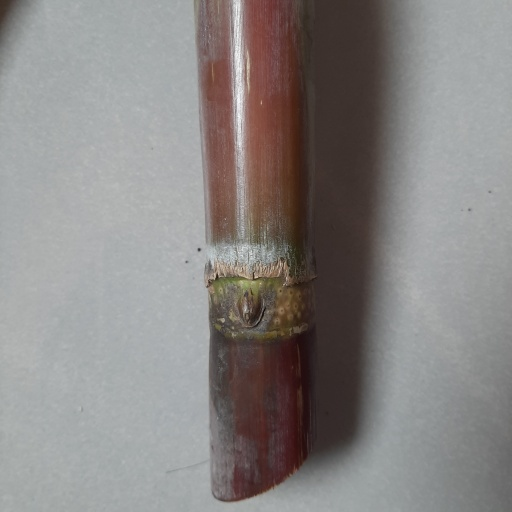Bud: (236, 293, 265, 328)
